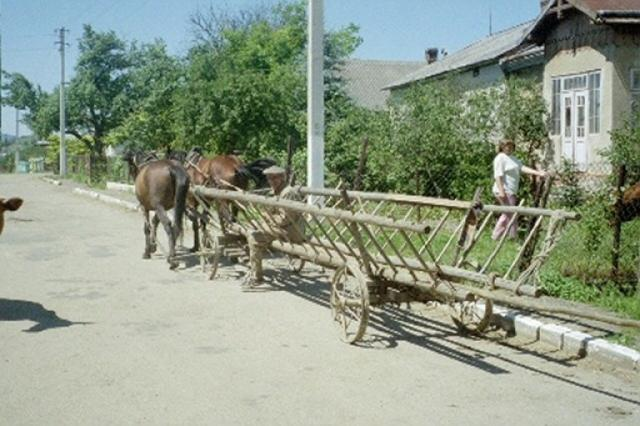horse: (161, 143, 283, 263), (118, 145, 193, 272)
